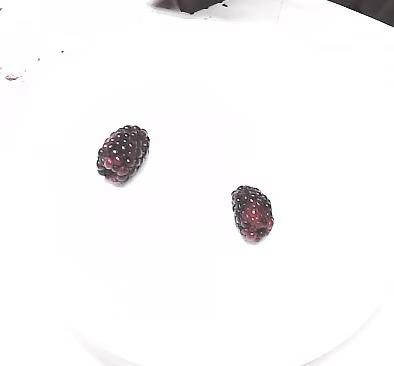berry: (97, 125, 149, 182), (233, 185, 273, 241)
red drouplet: (245, 204, 260, 220), (102, 156, 113, 169), (240, 228, 253, 238), (111, 156, 122, 166), (254, 221, 266, 230)
